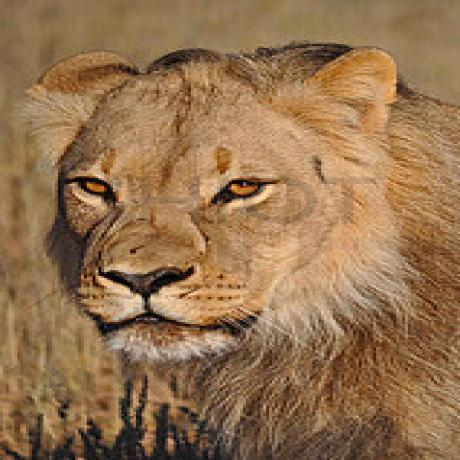Lion: (17, 40, 460, 460)
